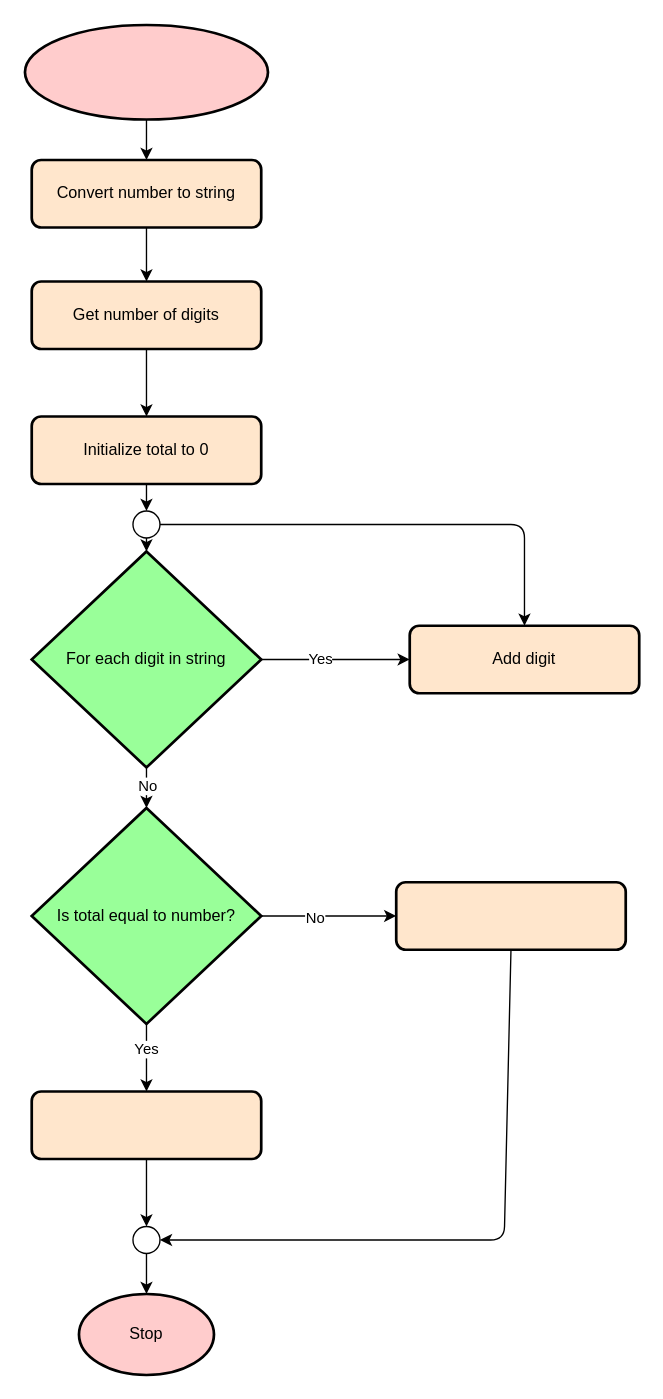
This 663x1399 diagram has some shape labels left out. Here are the shapes that lost their labels. From the top down, the box of each, then its label:
(23, 23, 269, 120): iis_armstorng(number)
(394, 880, 626, 950): Return False
(30, 1089, 262, 1160): Return True
